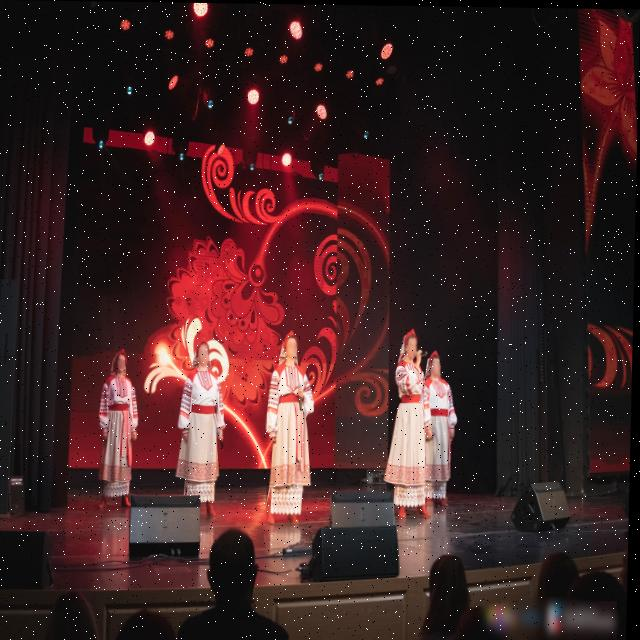Person: (260, 324, 319, 529), (384, 315, 439, 533), (89, 342, 148, 539), (175, 336, 231, 517), (421, 346, 470, 513)
